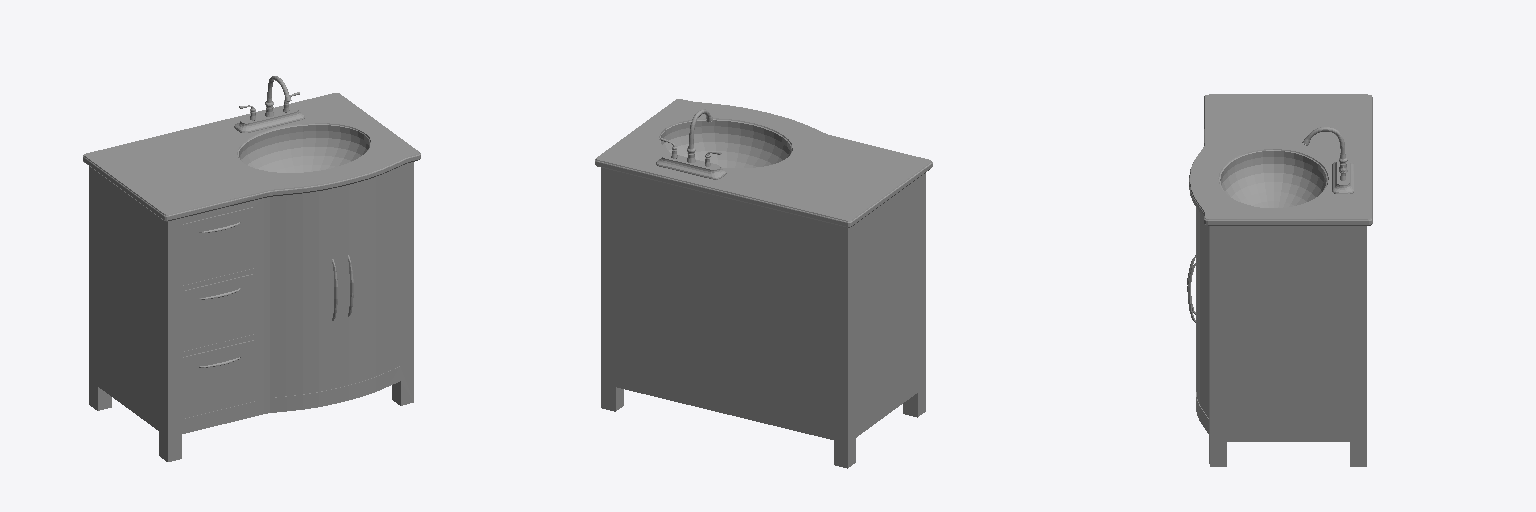
File: sink.obj
The picture shows the model from 3 angles: view 1: azimuth 30°, elevation 25°; view 2: azimuth 150°, elevation 25°; view 3: azimuth 270°, elevation 25°; orthographic projection.
Parts seen in each view (by area): view 1: MarbleBathroomSink_Cube; view 2: MarbleBathroomSink_Cube; view 3: MarbleBathroomSink_Cube.
Part boxes in pixels (x1,y1,x2,y2): MarbleBathroomSink_Cube: (83,76,420,461); MarbleBathroomSink_Cube: (595,99,932,468); MarbleBathroomSink_Cube: (1187,94,1372,466).
Bounding box in the file's own units: 80.36 × 90.11 × 50.16.